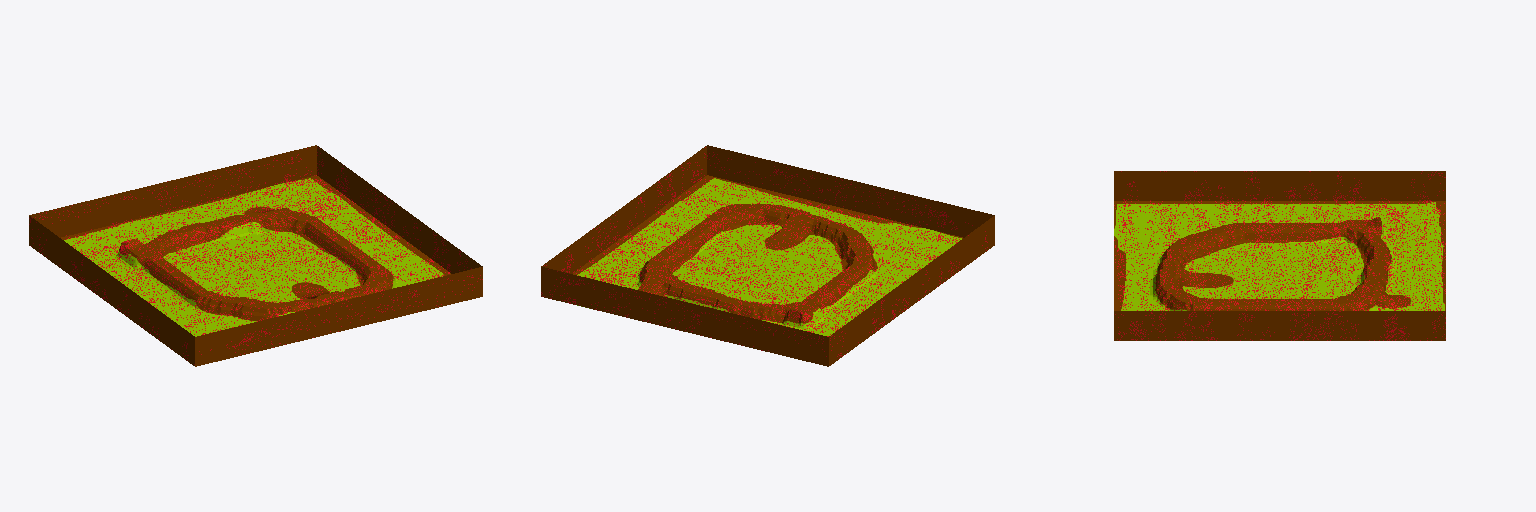
The picture shows the model from 3 angles: view 1: azimuth 30°, elevation 25°; view 2: azimuth 150°, elevation 25°; view 3: azimuth 270°, elevation 25°; orthographic projection.
Visible parts, largest first — view 1: Plane; view 2: Plane; view 3: Plane.
Boxes of the visible parts, x1=… form: Plane: x1=29, y1=145, x2=482, y2=366; Plane: x1=541, y1=145, x2=994, y2=366; Plane: x1=1114, y1=171, x2=1445, y2=340.
Size of the model in its own units: 2 by 0.2 by 2.
Materials: 1 (1 with a texture image).